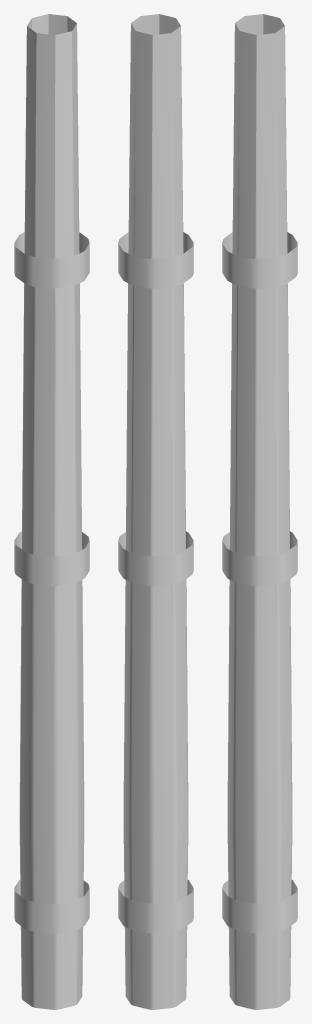
File: lathi.glb
The picture shows the model from 3 angles, left to right: view 1: azimuth 30°, elevation 25°; view 2: azimuth 150°, elevation 25°; view 3: azimuth 330°, elevation 25°; orthographic projection.
Visible parts, largest first — view 1: Lathi; view 2: Lathi; view 3: Lathi.
Boxes of the visible parts, x1,y1,x2,y2 form: Lathi: [14, 14, 89, 1009]; Lathi: [118, 14, 193, 1009]; Lathi: [222, 14, 297, 1009].
Bounding box in the file's own units: 0.0667 × 0.98 × 0.0667.
1 material, 1 textured.
